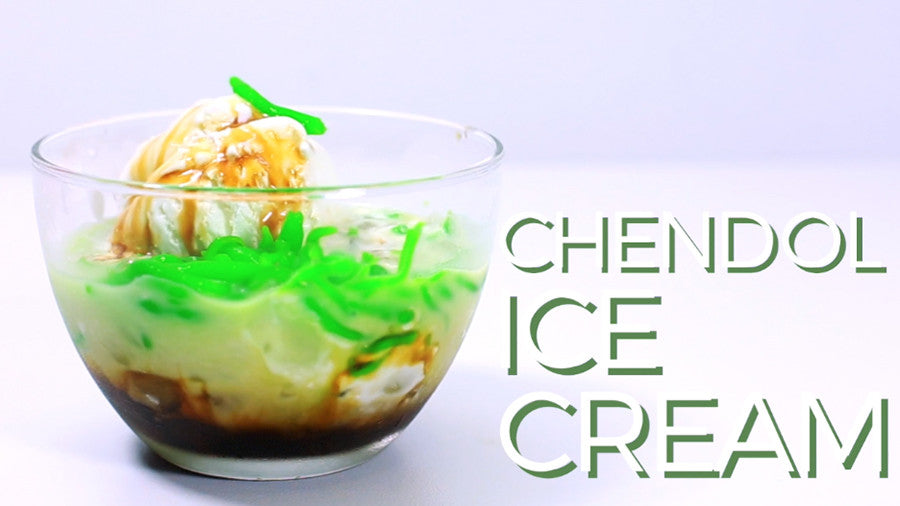Chendol: (54, 76, 471, 468)
